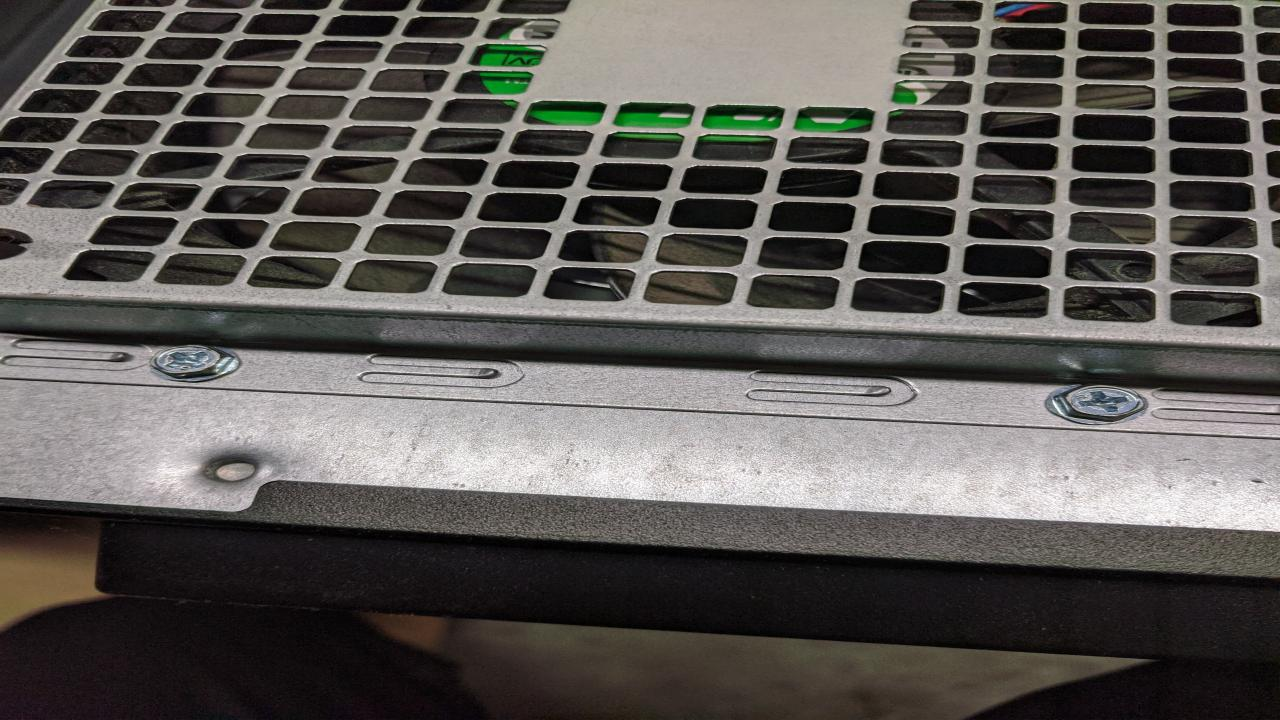CRS: (1046, 380, 1147, 422), (142, 343, 234, 381)
